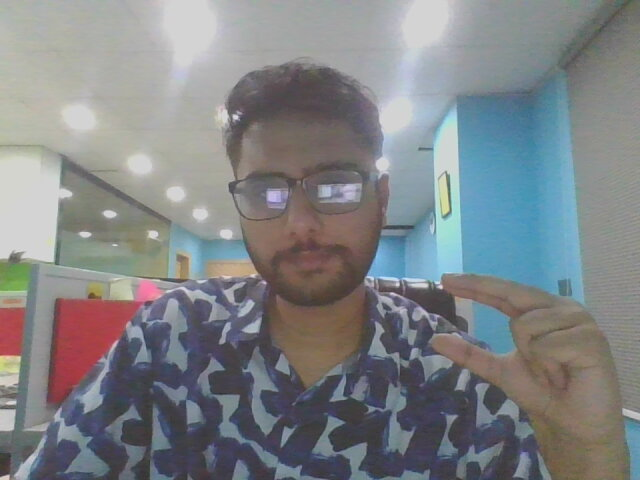no: (428, 255, 631, 447)
